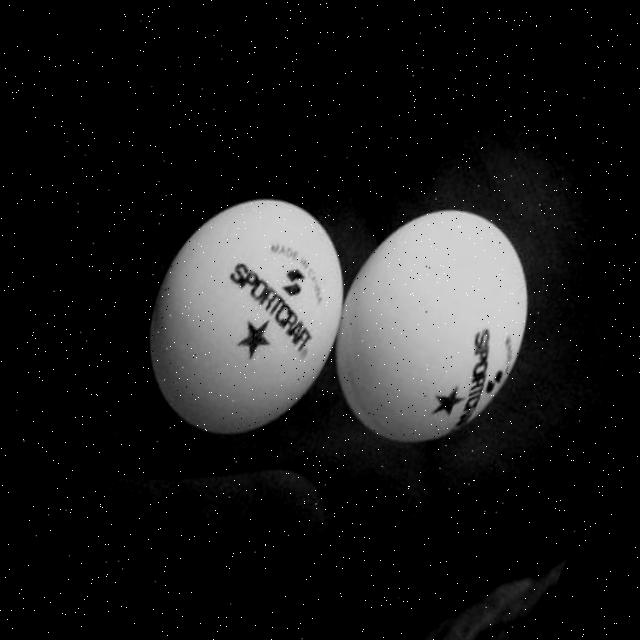ping-pong-ball: (108, 163, 380, 468), (298, 176, 566, 477)
